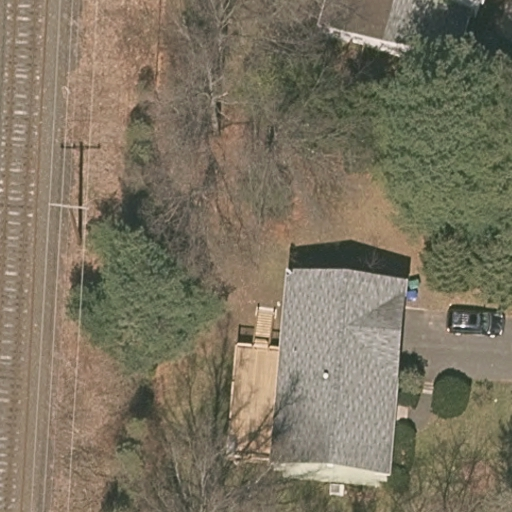DT: (50, 198, 89, 241)
